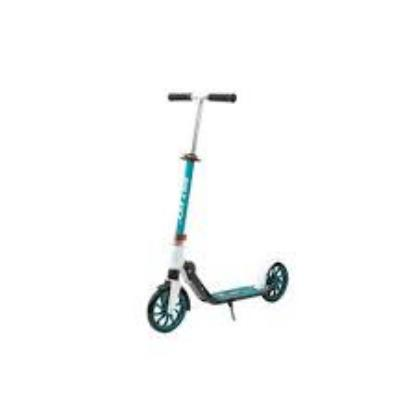bike: (146, 249, 290, 334)
